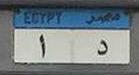1: (38, 34, 47, 58)
daal: (96, 38, 108, 56)
